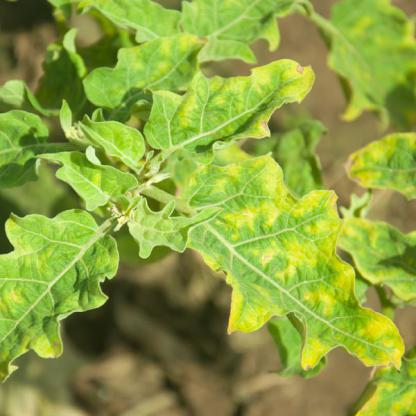tomato leaf mosaic virus: (171, 155, 408, 370), (135, 55, 322, 163), (4, 193, 114, 372), (42, 142, 132, 215), (122, 196, 223, 252)
